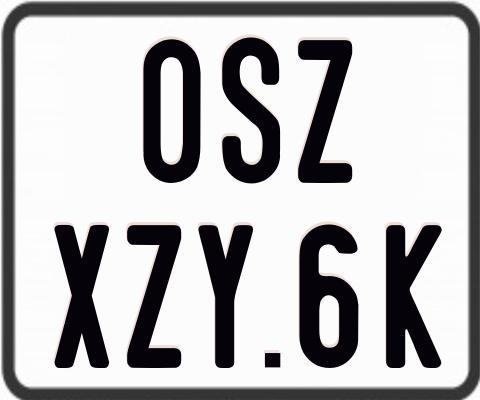0: (140, 37, 199, 182)
6: (298, 221, 357, 366)
K: (386, 225, 447, 372)
S: (219, 37, 277, 189)
X: (51, 222, 107, 368)
Y: (198, 223, 258, 367)
Z: (297, 37, 357, 183), (124, 222, 180, 367)
